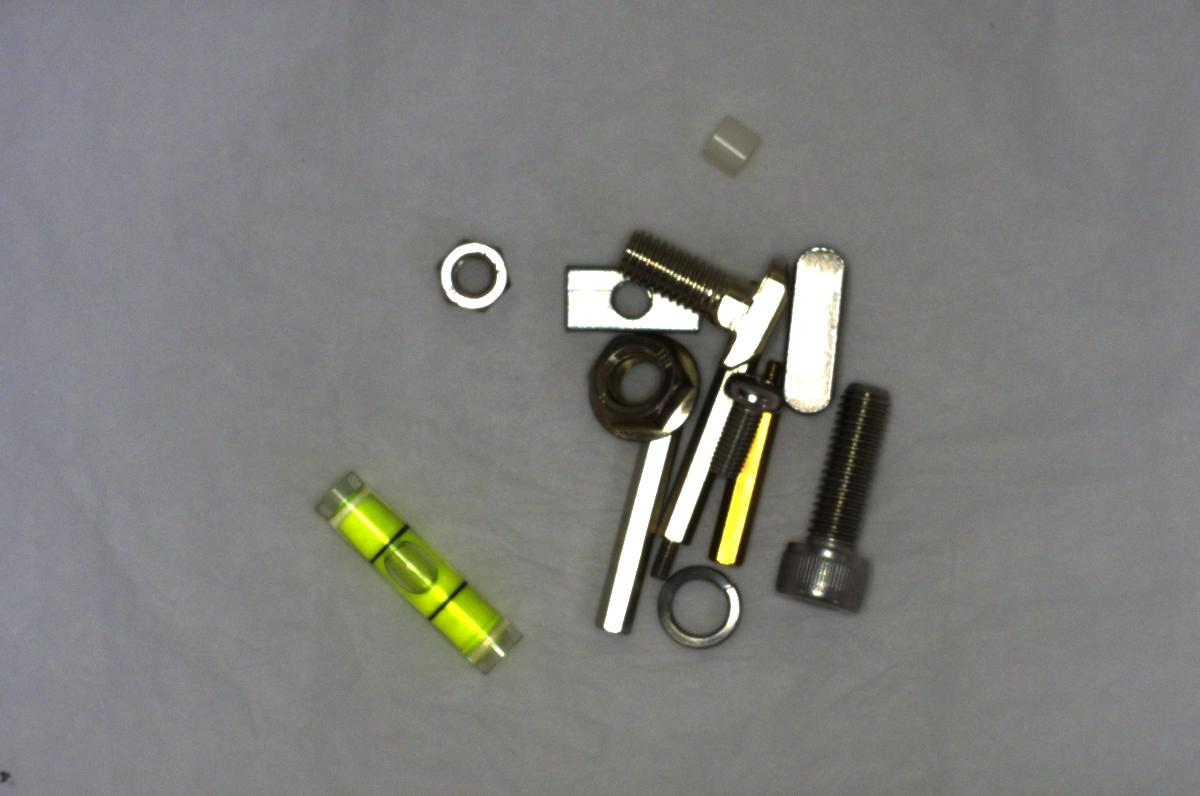Double hexagonal column: (584, 437, 683, 642)
Flange nut: (567, 321, 707, 448)
Hexagon nut: (425, 221, 517, 318)
Hexagon pillar: (716, 358, 784, 586)
Hexagon screw: (765, 378, 912, 617)
Horizontal bubble: (307, 467, 520, 680)
Keybar: (780, 224, 839, 419)
Plastic cushion pillar: (692, 106, 771, 189)
Rectangular nut: (550, 265, 710, 339)
Round head screw: (720, 373, 775, 482)
Spring washer: (646, 556, 752, 655)
T-shaped screw: (601, 214, 783, 376)
